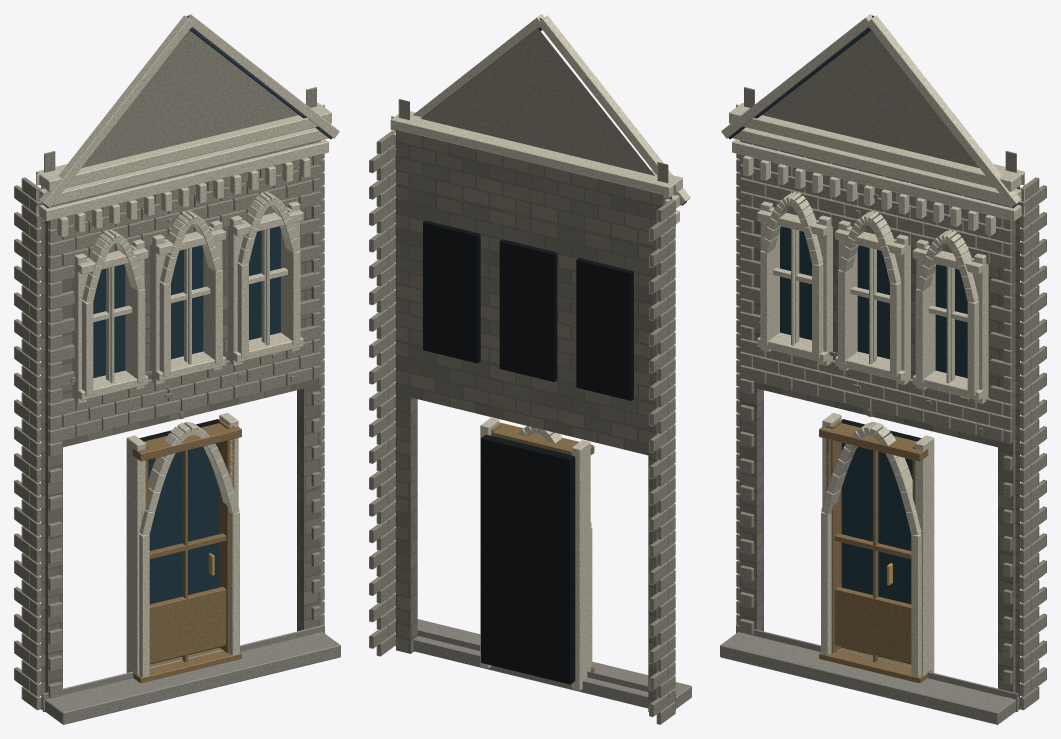
Rendered from CLSTGA19_lod0.glb.
3 renders of one model, left to right at view 1: azimuth 30°, elevation 25°; view 2: azimuth 150°, elevation 25°; view 3: azimuth 330°, elevation 25°, orthographic.
Parts seen in each view (by area): view 1: CLSTGA19_FRONT_LOD0; view 2: CLSTGA19_FRONT_LOD0; view 3: CLSTGA19_FRONT_LOD0.
Boxes of the visible parts, left/top/right/bottom form: CLSTGA19_FRONT_LOD0: left=14, top=14, right=340, bottom=724; CLSTGA19_FRONT_LOD0: left=369, top=14, right=691, bottom=724; CLSTGA19_FRONT_LOD0: left=720, top=14, right=1046, bottom=724.
Bounding box in the file's own units: 3.93 × 8.45 × 1.02.
Materials: 12 (9 with a texture image).
